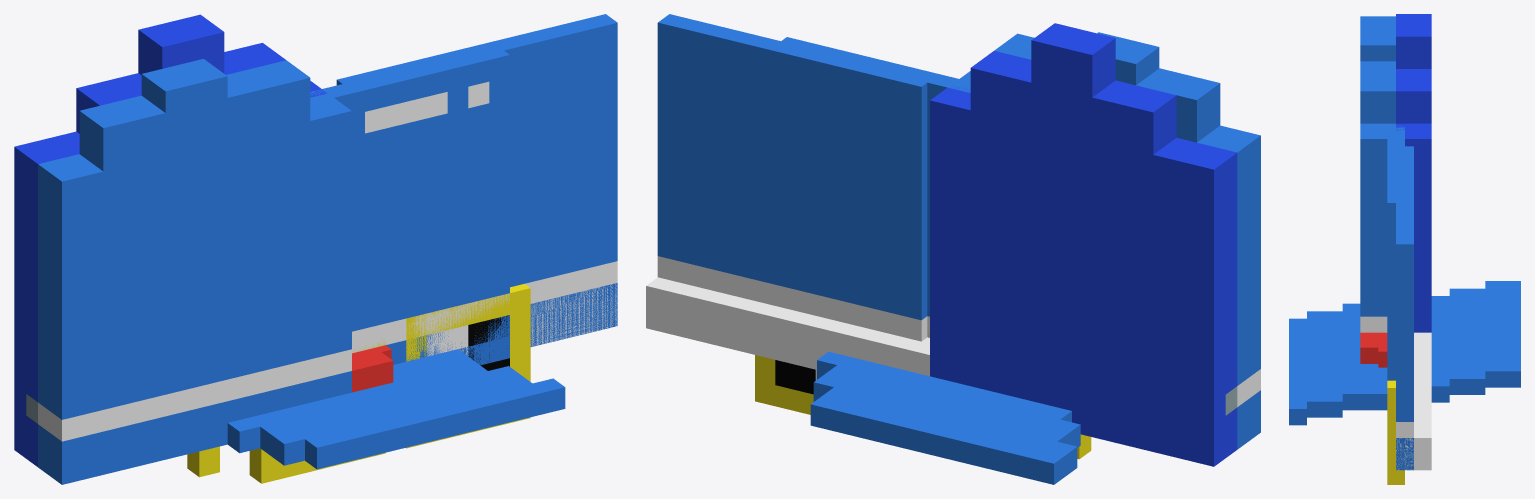
File: milk___wip.glb
3 views of the same model, side by side, from view 1: azimuth 30°, elevation 25°; view 2: azimuth 150°, elevation 25°; view 3: azimuth 270°, elevation 25° (orthographic). The views are drawn at different scales.
Visible parts, largest first — view 1: side-left-1, l1, back, floor, side-right-1, layer-1, t2, layer-2, pa1, l1-bottom; view 2: side-right-1, back, floor, side-left-1, t1, t2, l1, layer-1, layer-2; view 3: floor, side-left-1, side-right-1, back, l1, t1, t2, layer-1, pa1, pipe1.
Boxes of the visible parts, x1,y1,x2,y2 form: side-left-1: (38, 59, 351, 484); l1: (310, 46, 509, 364); back: (336, 14, 617, 346); floor: (227, 349, 565, 469); side-right-1: (14, 14, 327, 466); layer-1: (187, 284, 530, 483); t2: (530, 283, 617, 346); layer-2: (427, 315, 509, 370); pa1: (352, 348, 393, 392); l1-bottom: (458, 336, 509, 365); side-right-1: (930, 23, 1237, 466); back: (657, 14, 932, 341); floor: (810, 351, 1080, 484); side-left-1: (960, 32, 1260, 449); t1: (666, 282, 929, 376); t2: (646, 277, 929, 375); l1: (776, 37, 970, 337); layer-1: (755, 334, 1091, 459); layer-2: (775, 360, 816, 394); floor: (1289, 281, 1520, 425); side-left-1: (1360, 16, 1395, 332); side-right-1: (1396, 14, 1431, 332); back: (1396, 146, 1413, 470); l1: (1387, 126, 1404, 380); t1: (1414, 332, 1431, 430); t2: (1396, 333, 1431, 470); layer-1: (1387, 380, 1404, 484); pa1: (1360, 332, 1386, 363); pipe1: (1378, 336, 1387, 367).
Bounding box in the file's own units: 28 × 21 × 13.
14 materials, 14 textured.
